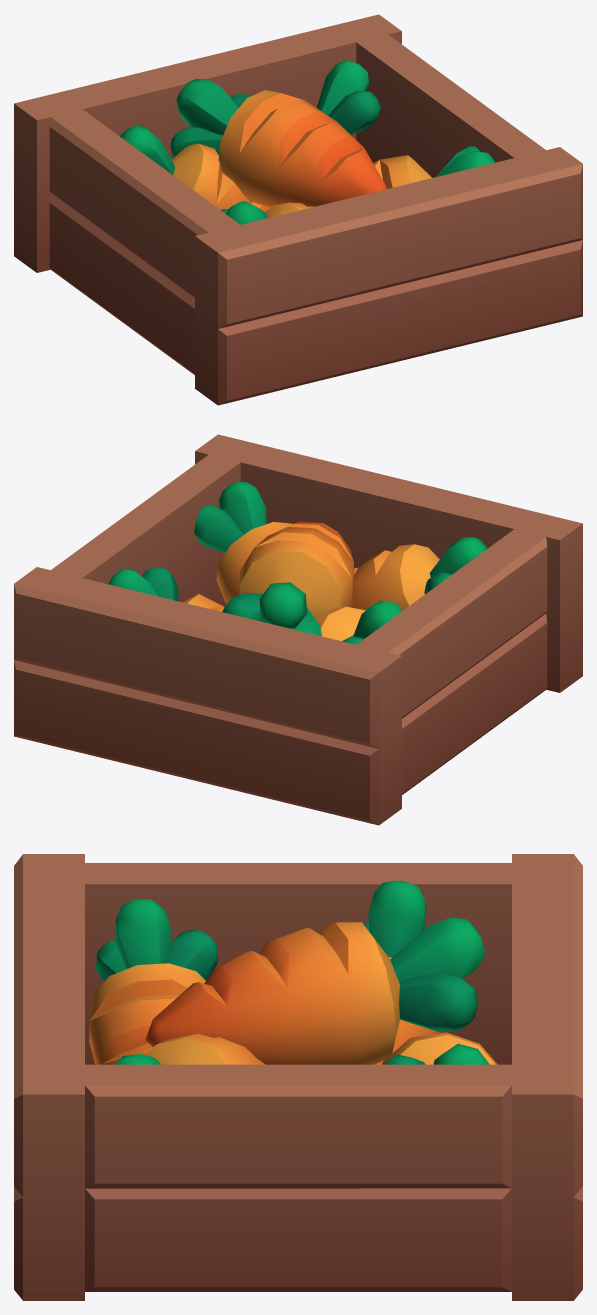
The model's file is kaykit-restaurant-bits-crate-carrots.glb.
3 views of the same model, one above another, from view 1: azimuth 30°, elevation 25°; view 2: azimuth 150°, elevation 25°; view 3: azimuth 270°, elevation 25° (orthographic). The views are drawn at different scales.
Parts seen in each view (by area): view 1: crate_carrots; view 2: crate_carrots; view 3: crate_carrots.
Boxes of the visible parts, x1,y1,x2,y2 form: crate_carrots: [14, 14, 582, 405]; crate_carrots: [14, 434, 582, 825]; crate_carrots: [14, 854, 582, 1300].
Size of the model in its own units: 2 by 0.9432 by 2.
1 material, 1 textured.
